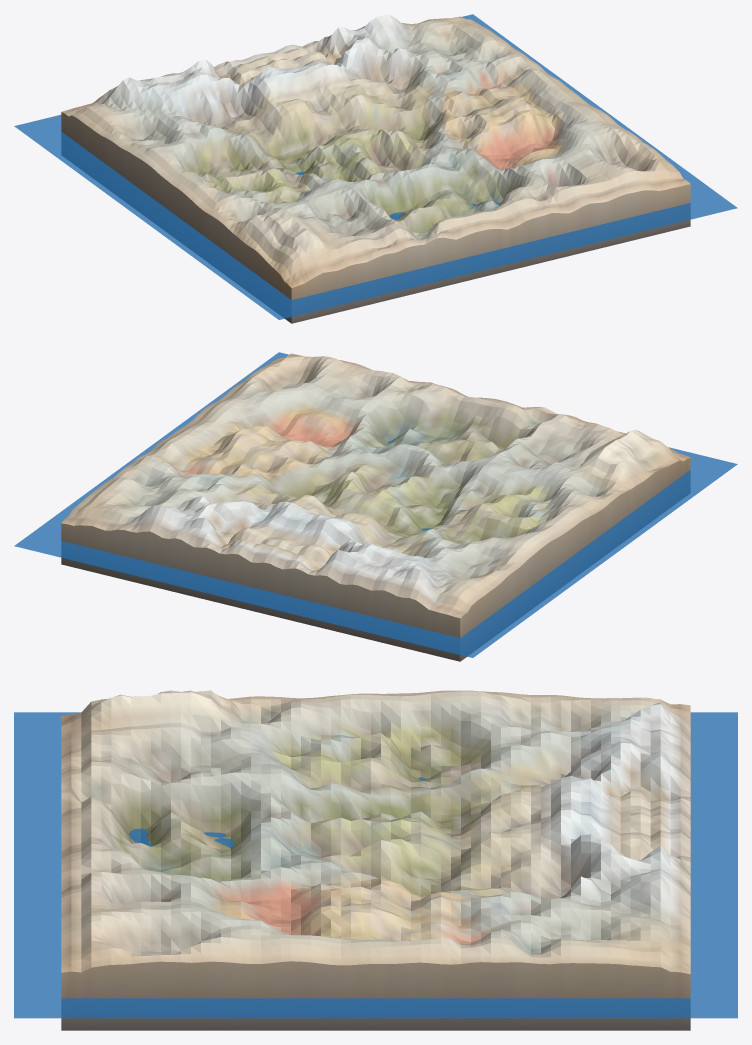
The model's file is terraforge_world.glb.
3 views of the same model, one above another, from view 1: azimuth 30°, elevation 25°; view 2: azimuth 150°, elevation 25°; view 3: azimuth 270°, elevation 25° (orthographic). The views are drawn at different scales.
Bounding box in the file's own units: 115 × 17.52 × 115.
